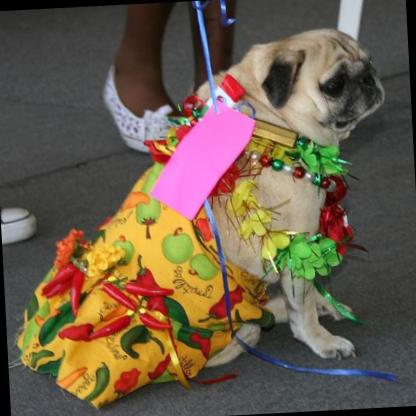pug: (9, 20, 401, 410)
